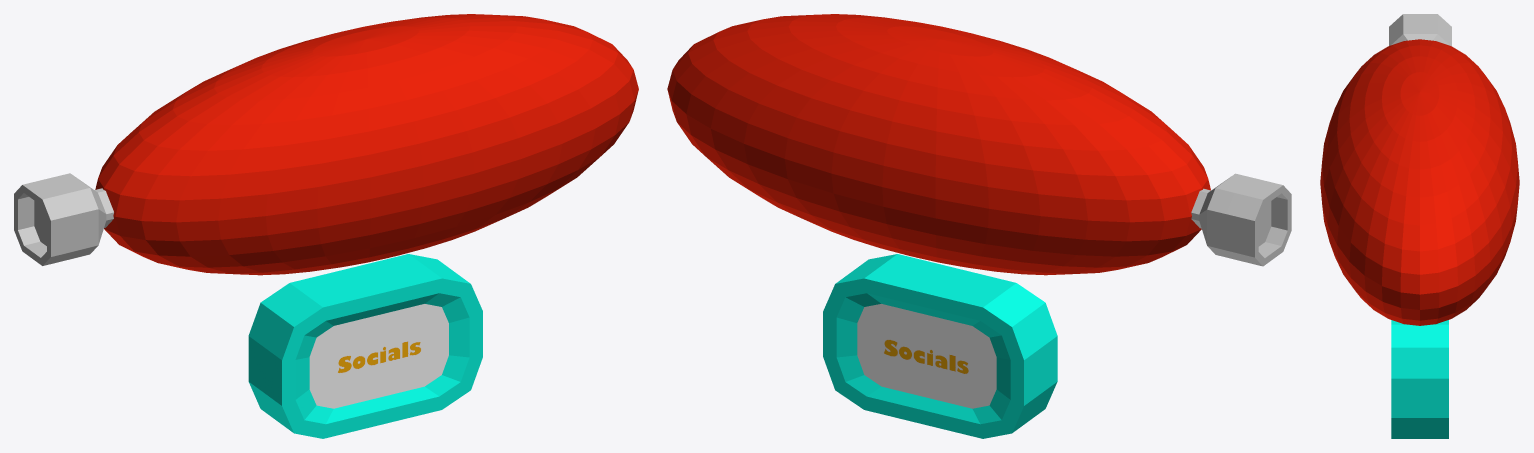
Rendered from floatingBSocials.glb.
The picture shows the model from 3 angles, left to right: view 1: azimuth 30°, elevation 25°; view 2: azimuth 150°, elevation 25°; view 3: azimuth 270°, elevation 25°; orthographic projection. The views are drawn at different scales.
Parts seen in each view (by area): view 1: Cube.011; view 2: Cube.011; view 3: Cube.011.
Part boxes in pixels (x1,y1,x2,y2): Cube.011: (14, 14, 638, 438); Cube.011: (667, 14, 1291, 438); Cube.011: (1320, 14, 1519, 438).
Bounding box in the file's own units: 17.34 × 10.29 × 5.81.
4 materials, 1 textured.
